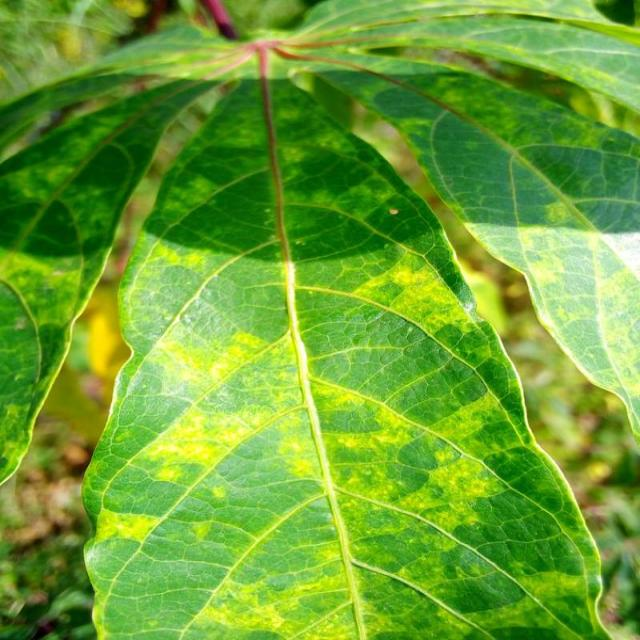cassava leaf: (78, 63, 612, 638)
